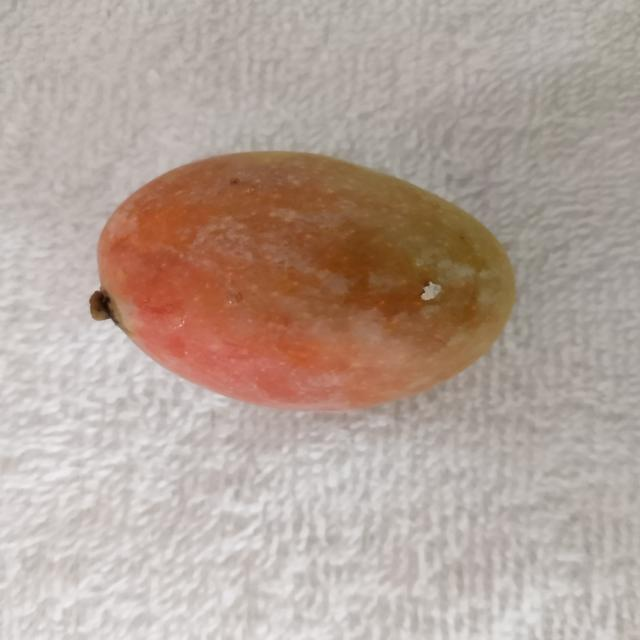mango: (92, 146, 521, 415)
